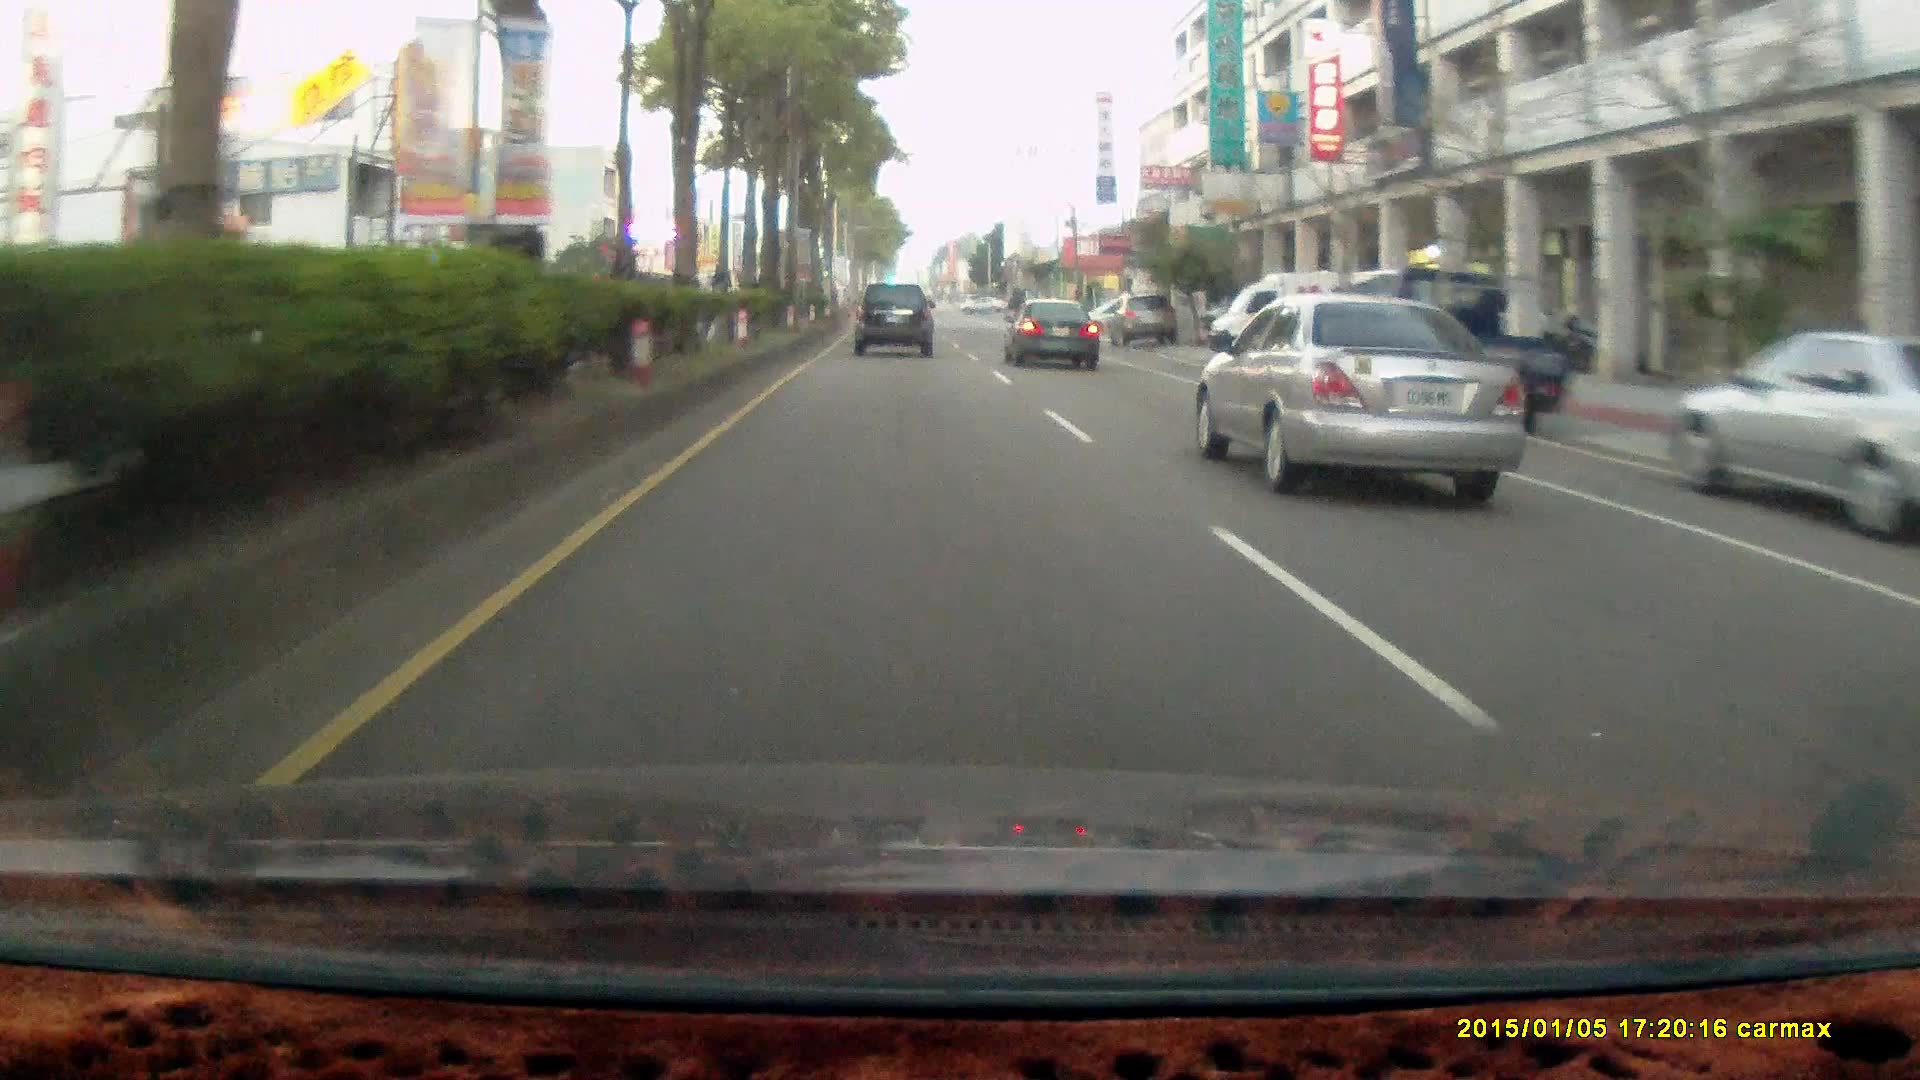vehicle: (1197, 287, 1526, 495), (1663, 328, 1920, 546), (1320, 268, 1563, 435), (1366, 266, 1604, 434), (1203, 269, 1393, 378), (1001, 297, 1104, 371), (1002, 295, 1097, 369), (855, 281, 938, 357), (852, 280, 932, 353), (1106, 291, 1178, 345)
